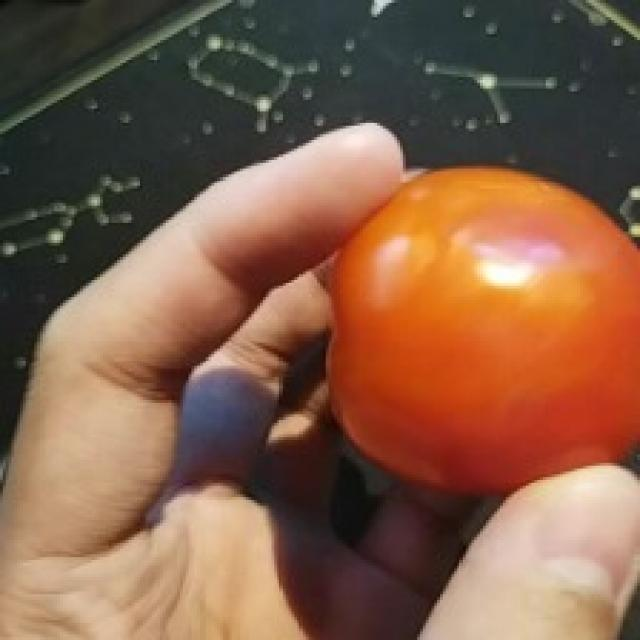Fresh Tomato: (325, 161, 640, 512)
